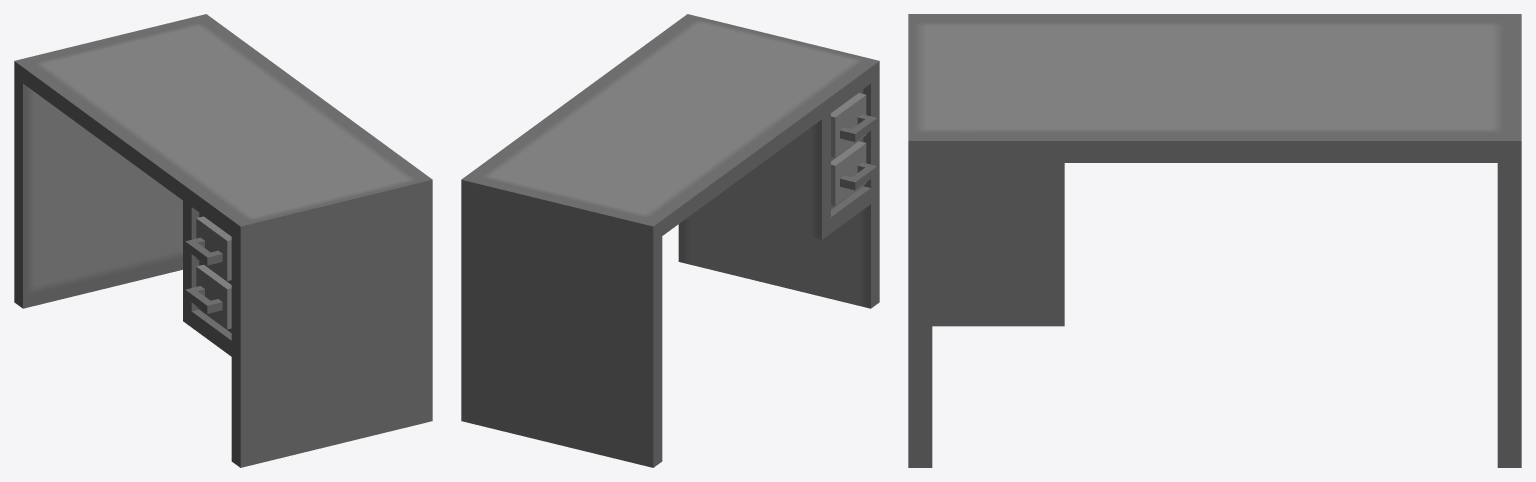
Rendered from desk.fbx.
3 renders of one model, left to right at view 1: azimuth 30°, elevation 25°; view 2: azimuth 150°, elevation 25°; view 3: azimuth 270°, elevation 25°, orthographic. The views are drawn at different scales.
Visible parts, largest first — view 1: desk; view 2: desk; view 3: desk.
Boxes of the visible parts, x1,y1,x2,y2 form: desk: (14,14,432,467); desk: (461,14,879,467); desk: (908,14,1521,467).
Bounding box in the file's own units: 27 × 30 × 51.
